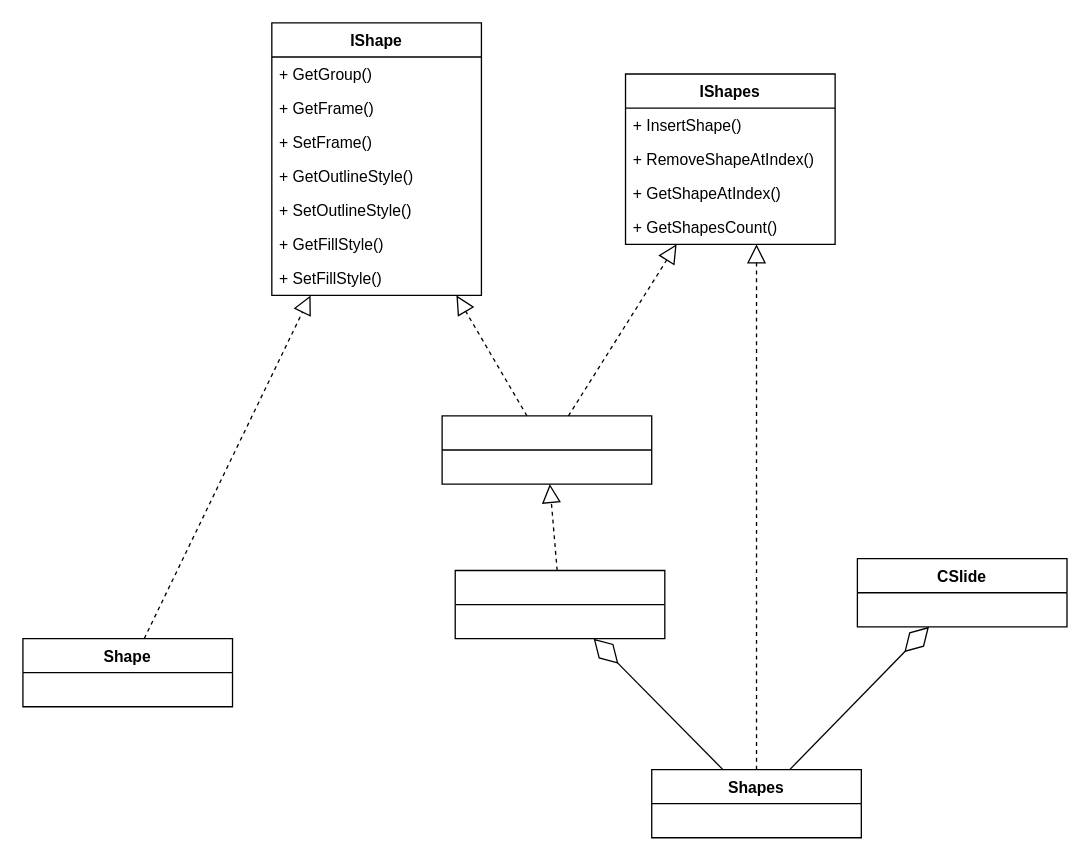
This 1090x861 diagram has some shape labels left out. Each missing label, with the centre of its shape:
IShapeGroup: pixel 546 449
ShapeGroup: pixel 559 604
